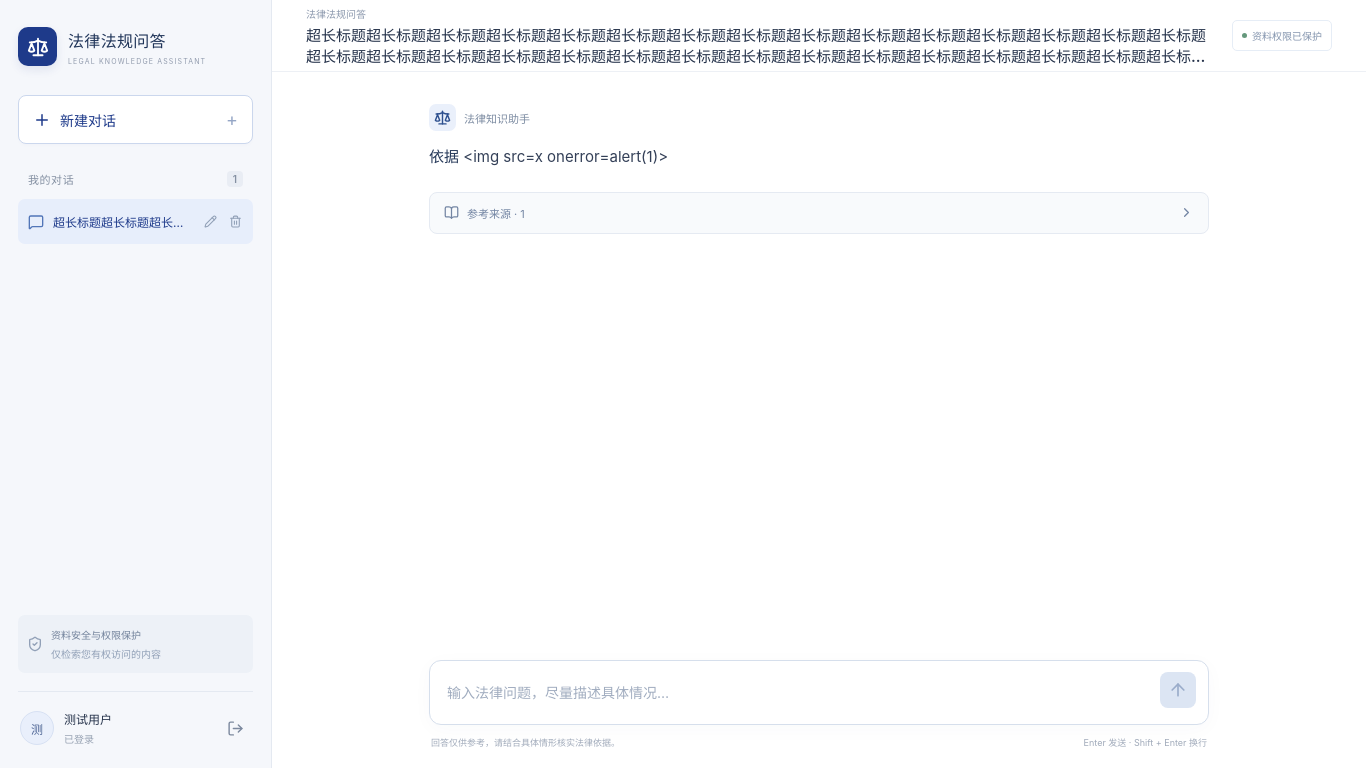
ChatView › renders long titles and safe Markdown with expandable sources
Expected: the text "依据" is shown, [429,147,459,166]
Click the heading "参考来源 · 1" at (494, 214), box [444,205,1194,220]
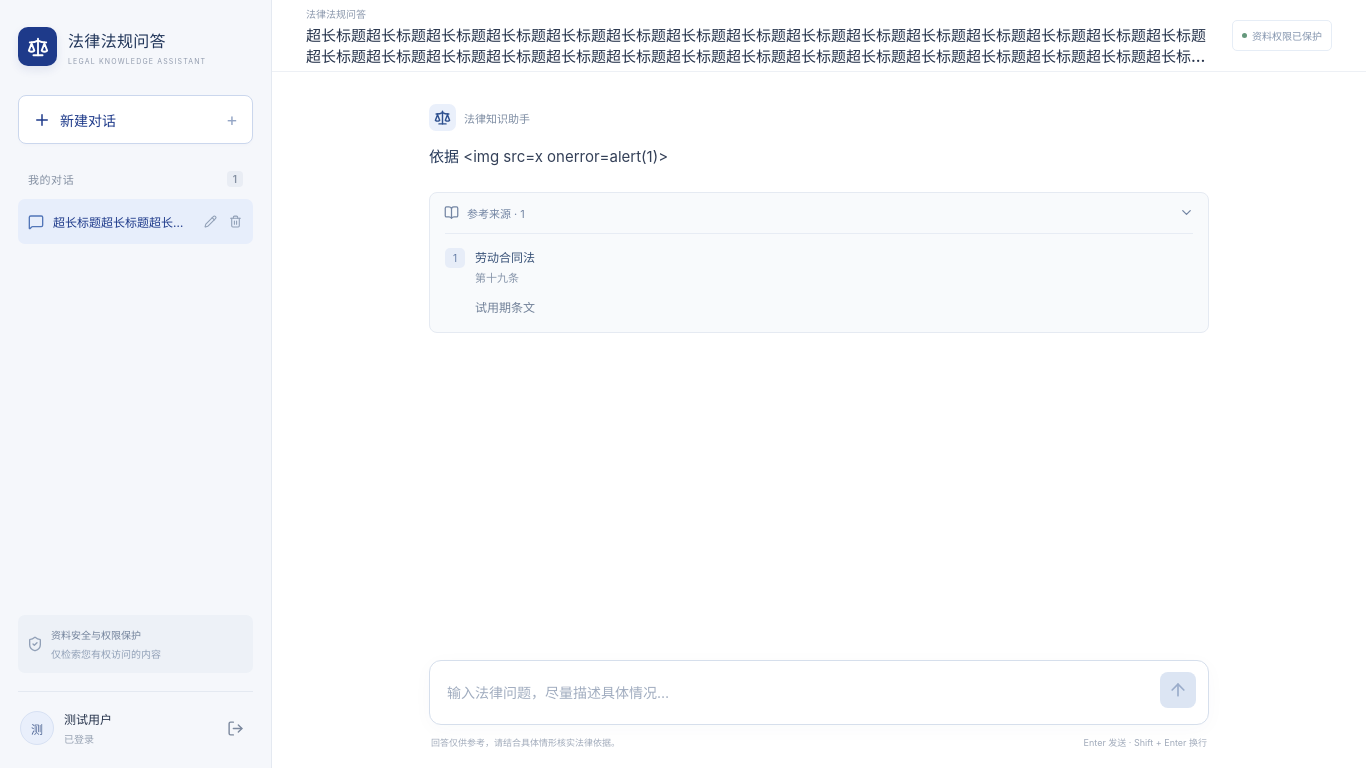
Now the text "试用期条文" is shown, box [475,296,535,318]
